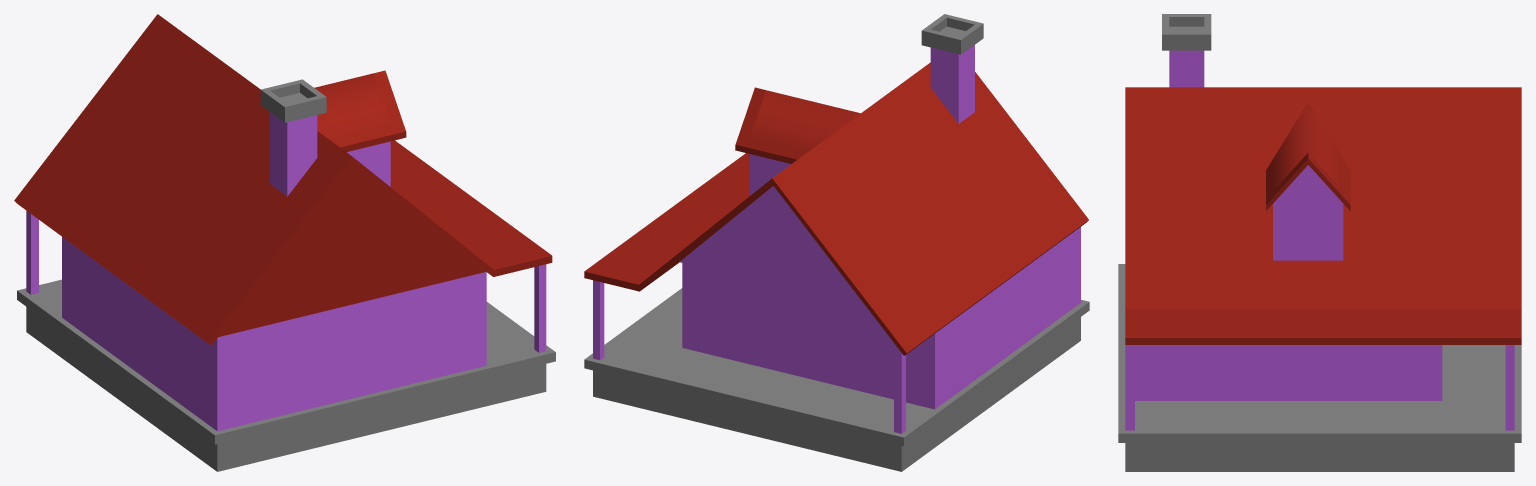
Rendered from CasinhaMapeada.fbx.
3 renders of one model, left to right at view 1: azimuth 30°, elevation 25°; view 2: azimuth 150°, elevation 25°; view 3: azimuth 270°, elevation 25°, orthographic. The views are drawn at different scales.
Parts seen in each view (by area): view 1: Casinha, Janela, Chaminé; view 2: Casinha, Janela, Chaminé; view 3: Casinha, Janela, Chaminé.
Boxes of the visible parts, bbox=[...] form: Casinha: bbox=[14, 14, 555, 471]; Janela: bbox=[314, 70, 406, 186]; Chaminé: bbox=[260, 79, 326, 196]; Casinha: bbox=[584, 62, 1089, 471]; Janela: bbox=[735, 87, 860, 195]; Chaminé: bbox=[921, 14, 983, 123]; Casinha: bbox=[1118, 87, 1521, 471]; Janela: bbox=[1266, 102, 1350, 260]; Chaminé: bbox=[1162, 14, 1211, 87].
Size of the model in its own units: 66.41 by 66.19 by 61.01.
